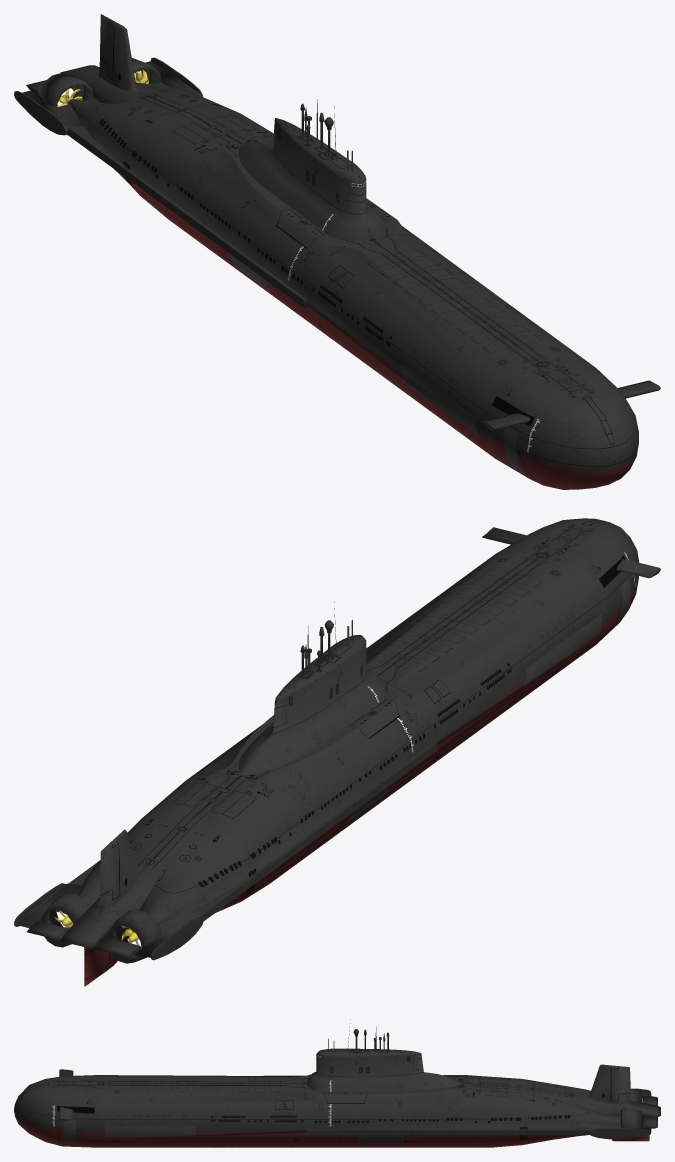
3 renders of one model, top to bottom at view 1: azimuth 30°, elevation 25°; view 2: azimuth 150°, elevation 25°; view 3: azimuth 270°, elevation 25°, orthographic. The views are drawn at different scales.
Parts seen in each view (by area): view 1: Cube; view 2: Cube; view 3: Cube.
Boxes of the visible parts, left/top/right/bottom form: Cube: left=14, top=14, right=660, bottom=489; Cube: left=14, top=518, right=660, bottom=986; Cube: left=14, top=1023, right=660, bottom=1147.
Bounding box in the file's own units: 5.16 × 6.17 × 28.69.
2 materials, 1 textured.
